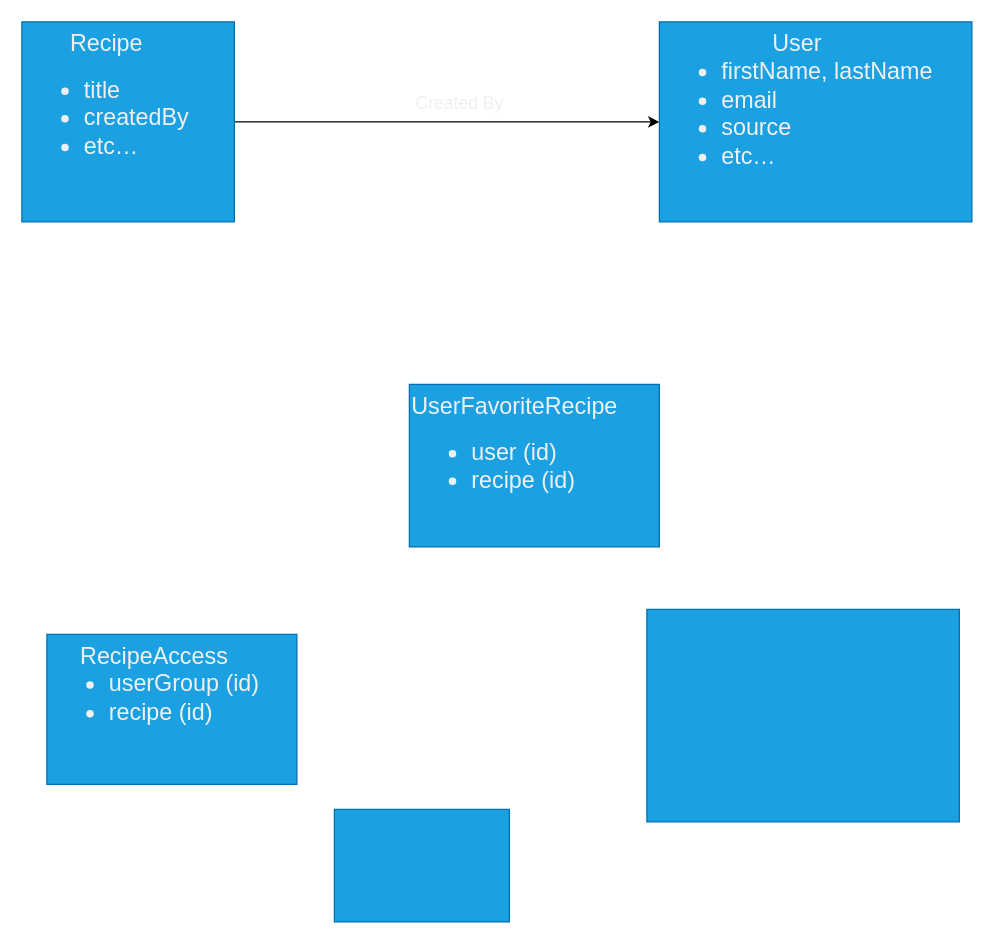
This 994x944 diagram has some shape labels left out. Here are the shapes that lost their labels. From the top down, the centre of each, then its label:
point 802,715: UserGroup Name [Users] recipeWriteAccess groupWriteAccess
point 421,865: AdminEmails email
